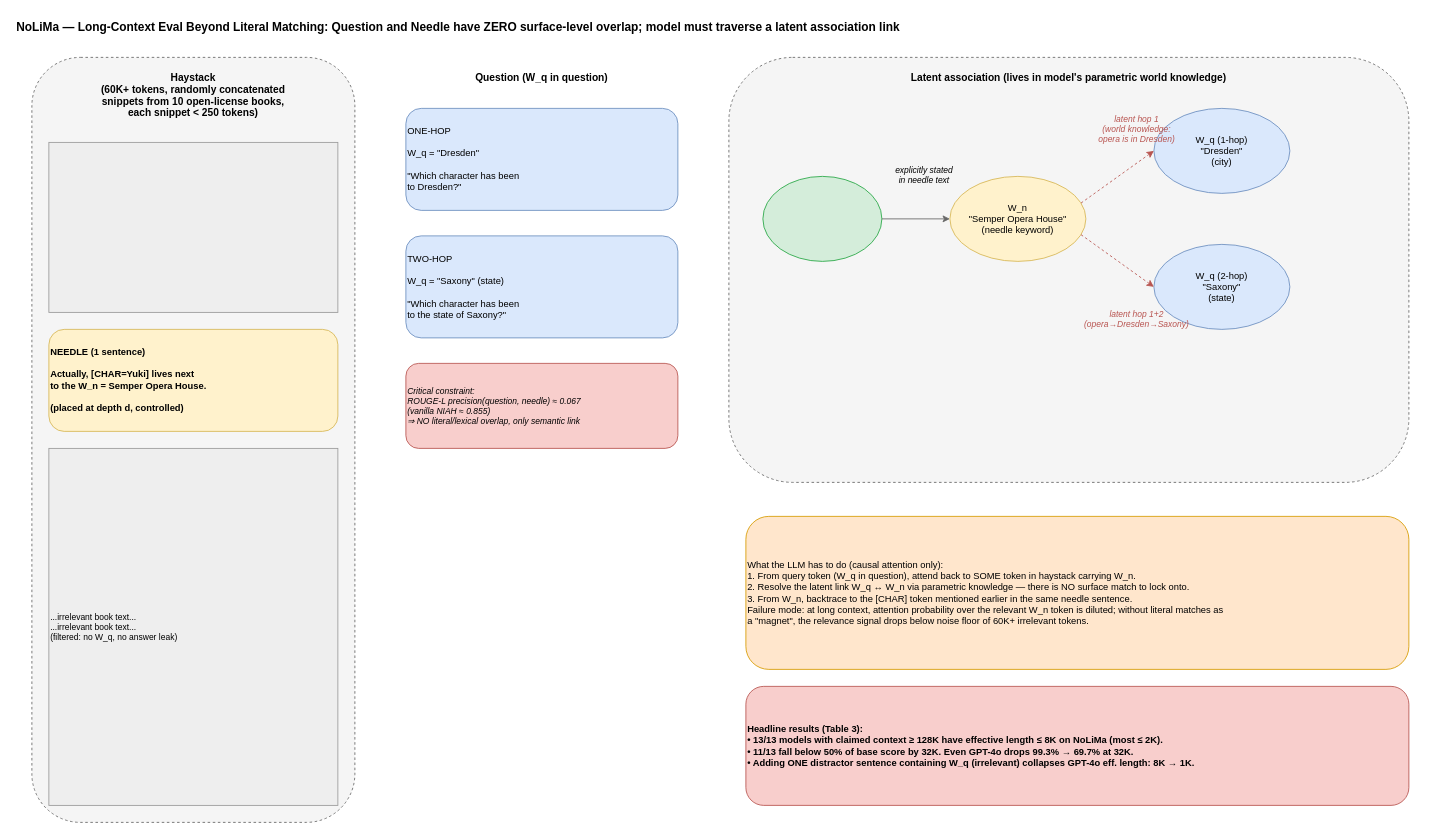
This 1440x837 diagram has some shape labels left out. Each missing label, with the centre of its shape:
...irrelevant book text... ...irrelevant book text... ...irrelevant book text...: point 193,227
CHAR "Yuki" (answer): point 822,218
